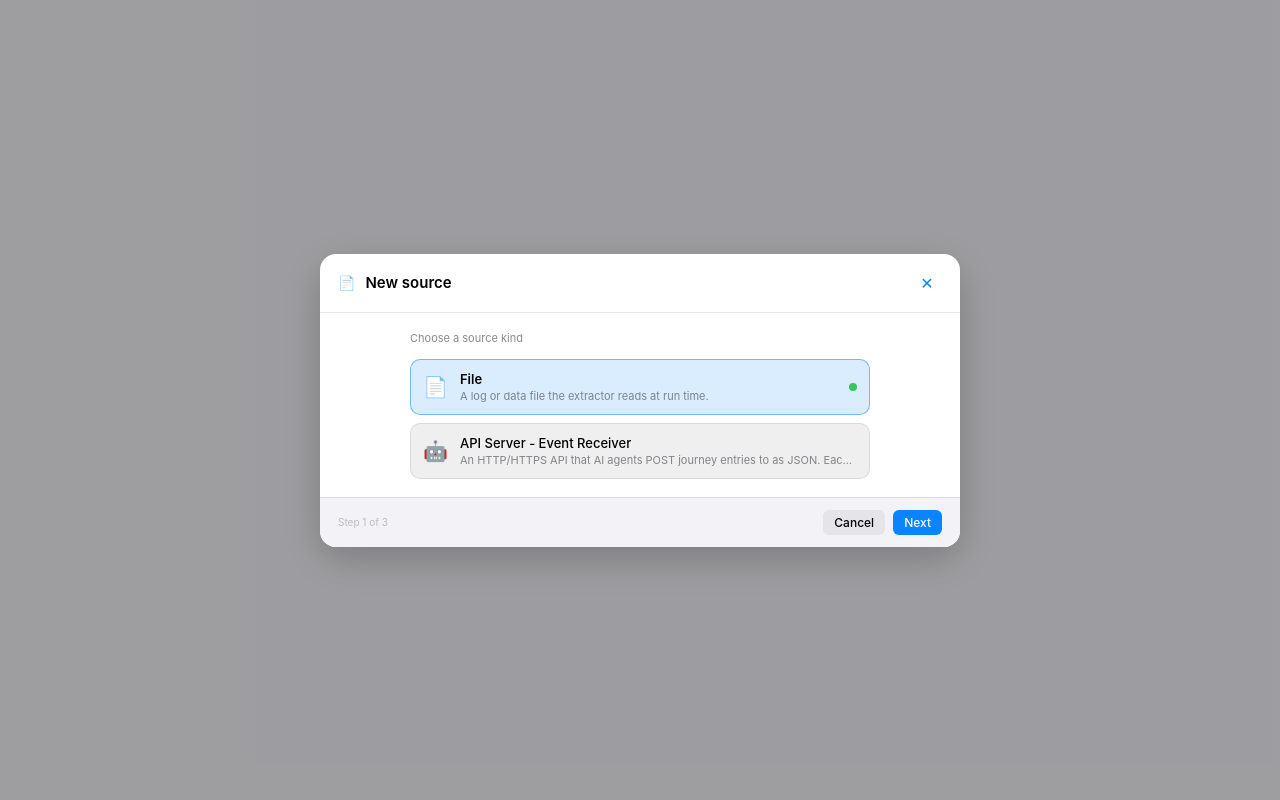
Test case: SourceWizard › offers the API Server - Event Receiver kind with connection + port fields
# Pick the sink kind (it is selectable, not a "coming soon" placeholder).
Click the text "API Server - Event Receiver": click(546, 442) [460,434,631,450]
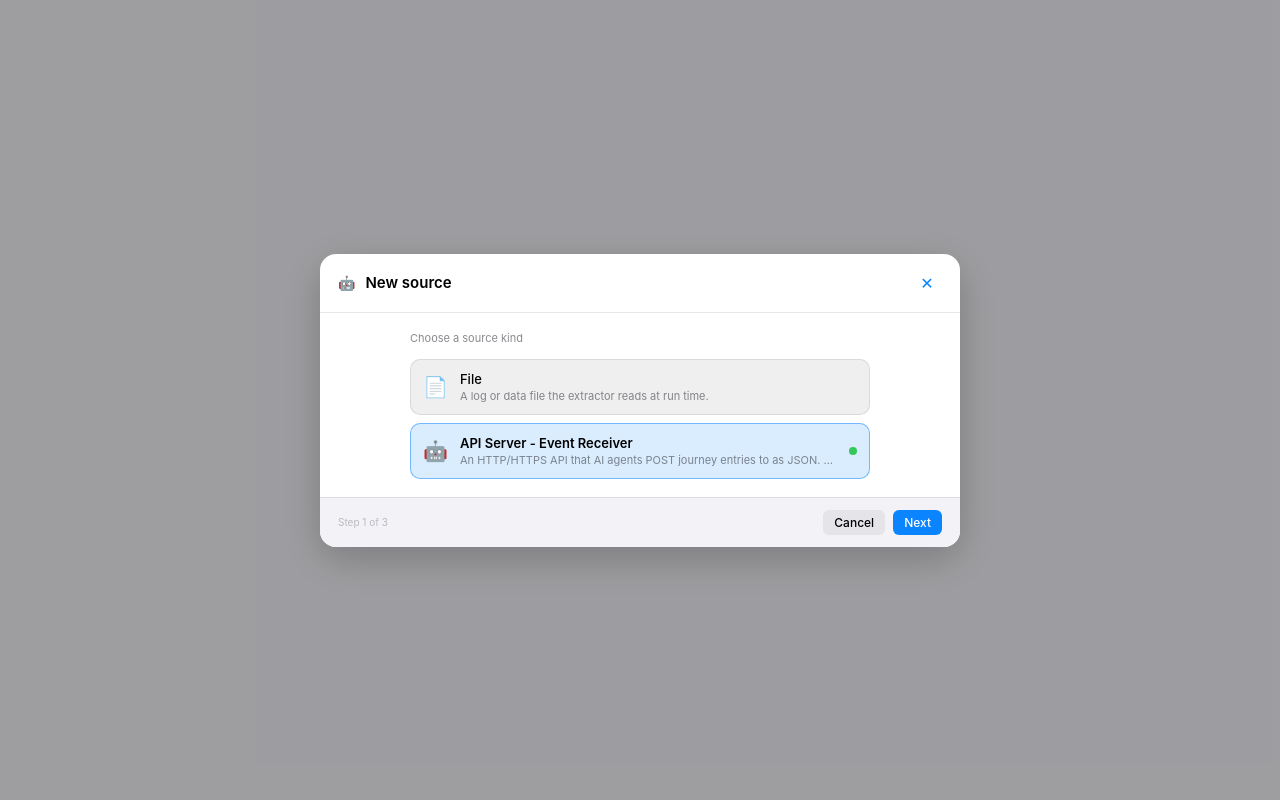
Click the button "Next": click(918, 522) [893,510,942,534]
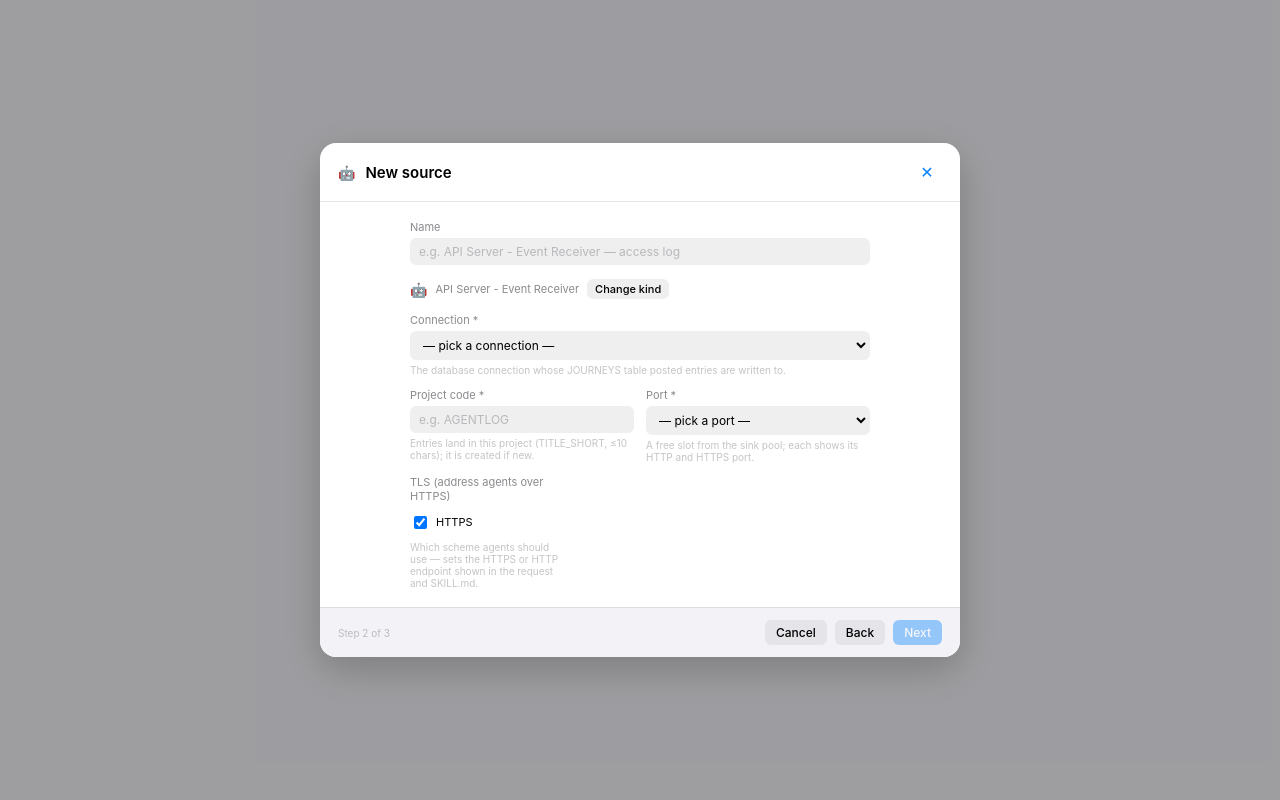
Expected: the text "Project code *" is shown, [410,388,484,402]
Expected: the text "Connection *" is shown, [410,313,478,327]
Expected: the text "Port *" is shown, [646,388,676,402]
